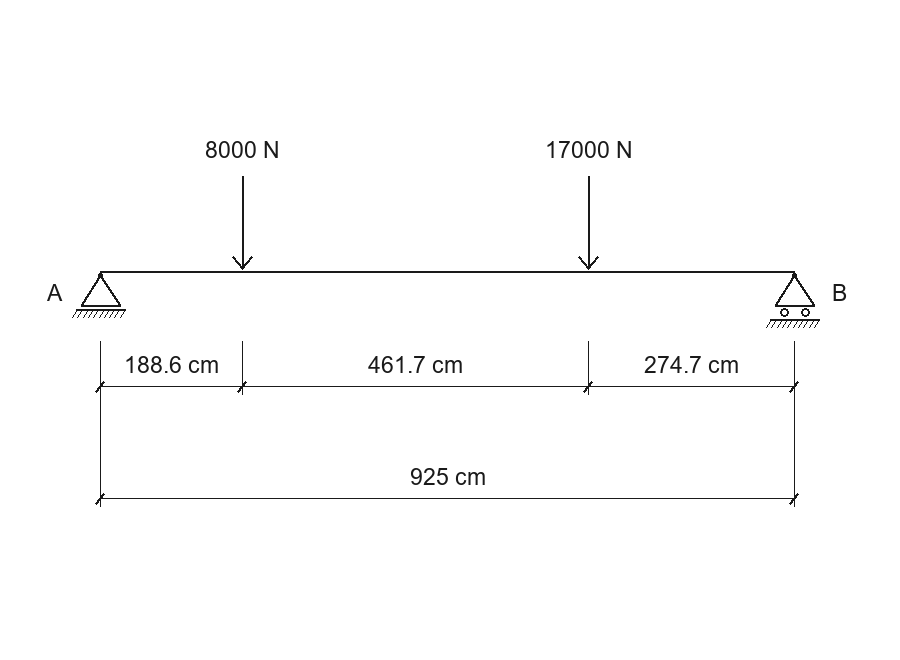pin_support: (72, 273, 126, 318)
point_load: (232, 176, 253, 270), (578, 176, 599, 270)
roller_support: (766, 273, 820, 328)
